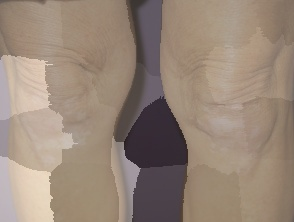vitiligo: (20, 73, 106, 210), (188, 79, 274, 193)
